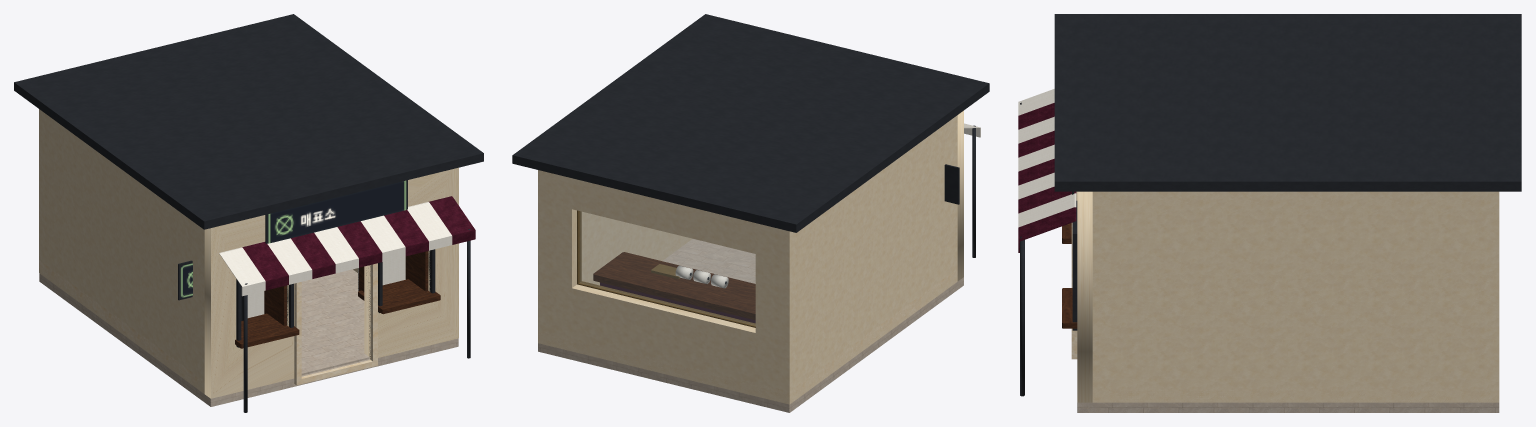
Rendered from explore3d__ticket_booth.glb.
The picture shows the model from 3 angles, left to right: view 1: azimuth 30°, elevation 25°; view 2: azimuth 150°, elevation 25°; view 3: azimuth 270°, elevation 25°; orthographic projection. The views are drawn at different scales.
Visible parts, largest first — view 1: Rebuilt_ticket_booth; view 2: Rebuilt_ticket_booth; view 3: Rebuilt_ticket_booth.
Part boxes in pixels (x1,y1,x2,y2): Rebuilt_ticket_booth: (14, 14, 483, 412); Rebuilt_ticket_booth: (512, 14, 989, 412); Rebuilt_ticket_booth: (1018, 14, 1521, 412).
Size of the model in its own units: 5.64 by 3.78 by 7.16.
11 materials, 10 textured.
